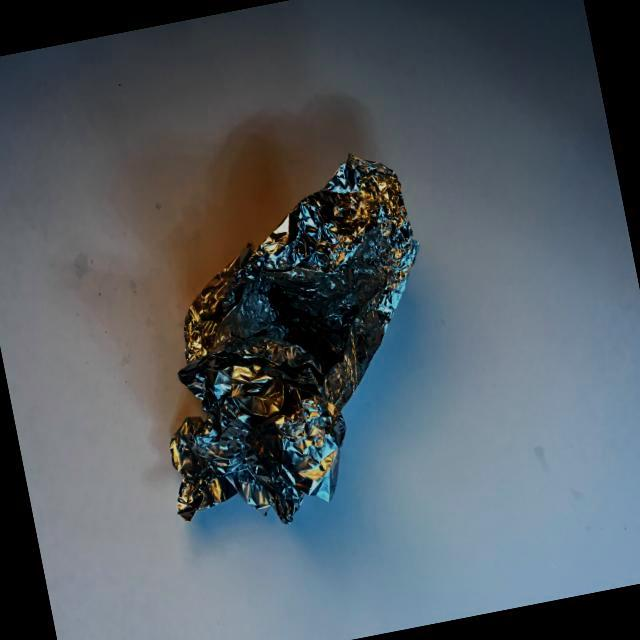metal: (96, 126, 488, 608)
